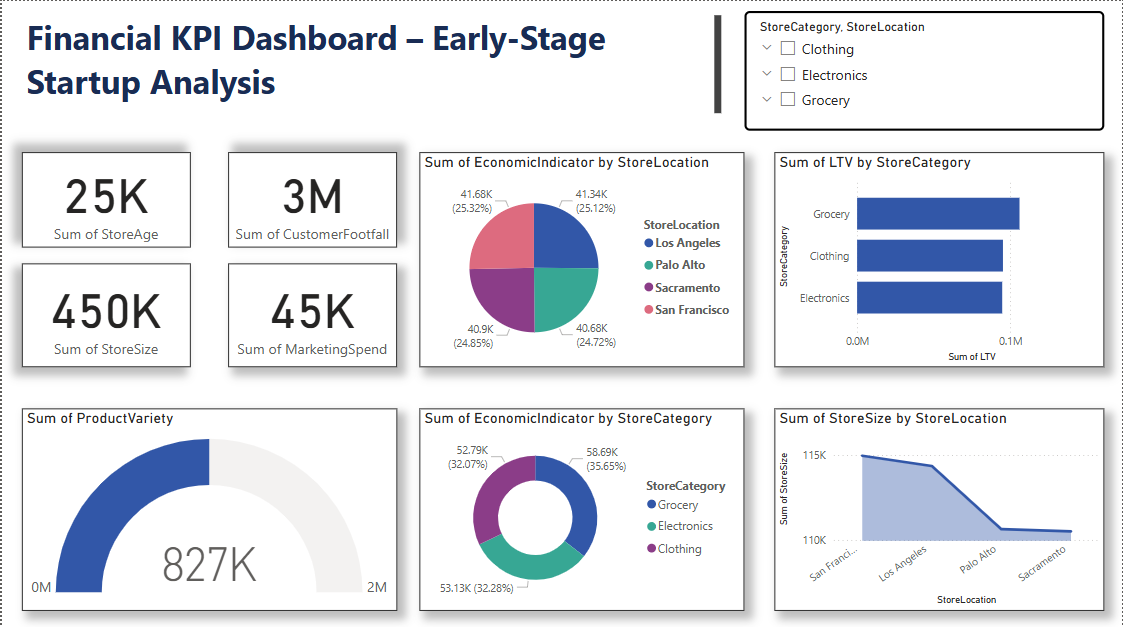

This screenshot's page, from the dashboard's own definition file:
{"tool":"powerbi","page":{"name":"Page 1","canvas":[1280,720],"ordinal":0},"visuals":[{"type":"clusteredBarChart","fields":{"Category":["New dataset Prepared.StoreCategory"],"Y":["Sum(New dataset Prepared.LTV)"]},"box":[882.9,172.9,377.1,245.7],"z":0},{"type":"areaChart","fields":{"Category":["New dataset Prepared.StoreLocation"],"Y":["Sum(New dataset Prepared.StoreSize)"]},"box":[882.9,465.7,377.1,231.4],"z":1000},{"type":"pieChart","fields":{"Y":["Sum(New dataset Prepared.EconomicIndicator)"],"Series":["New dataset Prepared.StoreLocation"]},"box":[477.1,172.9,371.4,245.7],"z":2000},{"type":"donutChart","fields":{"Y":["Sum(New dataset Prepared.EconomicIndicator)"],"Category":["New dataset Prepared.StoreCategory"]},"box":[477.1,465.7,371.4,231.4],"z":3000},{"type":"gauge","fields":{"Y":["Sum(New dataset Prepared.ProductVariety)"]},"box":[22.9,465.7,428.6,231.4],"z":4000},{"type":"card","fields":{"Values":["Sum(New dataset Prepared.StoreAge)"]},"box":[22.9,172.9,192.9,108.6],"z":5000},{"type":"card","fields":{"Values":["Sum(New dataset Prepared.CustomerFootfall)"]},"box":[258.6,172.9,192.9,108.6],"z":6000},{"type":"card","fields":{"Values":["Sum(New dataset Prepared.StoreSize)"]},"box":[22.9,300,192.9,118.6],"z":7000},{"type":"card","fields":{"Values":["Sum(New dataset Prepared.MarketingSpend)"]},"box":[258.6,300,192.9,118.6],"z":8000},{"type":"slicer","fields":{"Values":["New dataset Prepared.StoreCategory","New dataset Prepared.StoreLocation"]},"box":[848.6,11.4,411.4,137.1],"z":9000},{"type":"textbox","box":[22.9,11.4,804.3,124.3],"z":10000}]}

Visuals, with their boxes in screenshot pixels (x1, y1, x2, y2), scaled from the page's 1280x720 canvas onto the 1123x627 screenshot:
clusteredBarChart - New dataset Prepared.StoreCategory x Sum(New dataset Prepared.LTV): Rect(775, 151, 1105, 365)
areaChart - New dataset Prepared.StoreLocation x Sum(New dataset Prepared.StoreSize): Rect(775, 406, 1105, 607)
pieChart - Sum(New dataset Prepared.EconomicIndicator) x New dataset Prepared.StoreLocation: Rect(419, 151, 744, 365)
donutChart - Sum(New dataset Prepared.EconomicIndicator) x New dataset Prepared.StoreCategory: Rect(419, 406, 744, 607)
gauge - Sum(New dataset Prepared.ProductVariety): Rect(20, 406, 396, 607)
card - Sum(New dataset Prepared.StoreAge): Rect(20, 151, 189, 245)
card - Sum(New dataset Prepared.CustomerFootfall): Rect(227, 151, 396, 245)
card - Sum(New dataset Prepared.StoreSize): Rect(20, 261, 189, 365)
card - Sum(New dataset Prepared.MarketingSpend): Rect(227, 261, 396, 365)
slicer - New dataset Prepared.StoreCategory x New dataset Prepared.StoreLocation: Rect(745, 10, 1105, 129)
textbox: Rect(20, 10, 726, 118)
